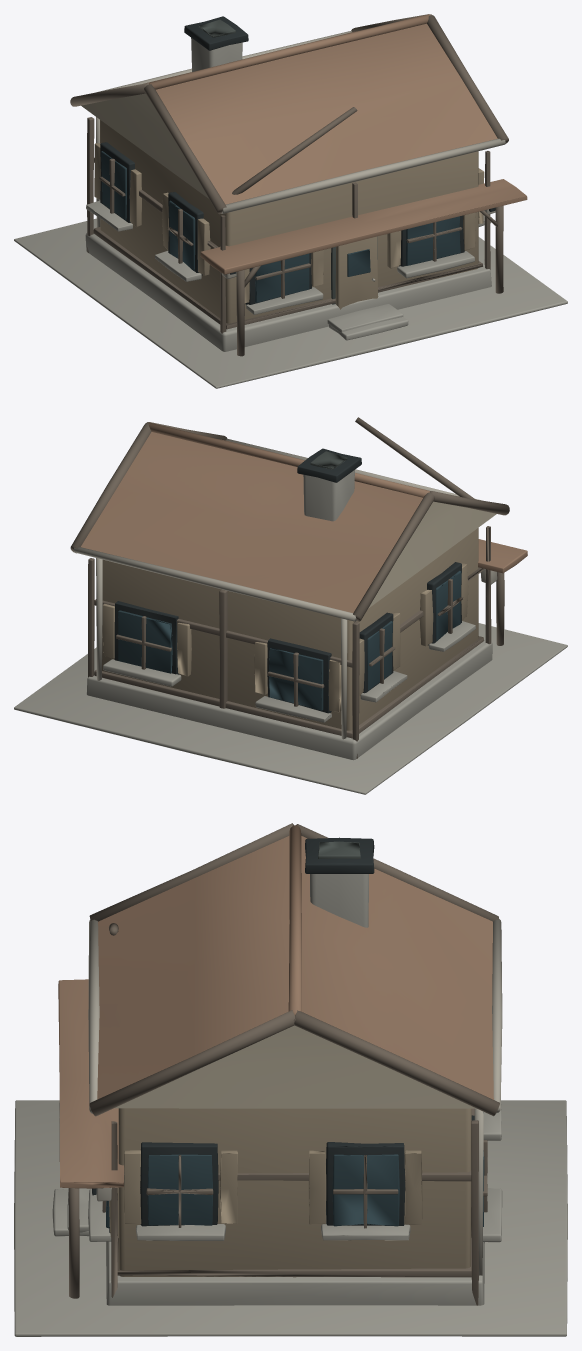
Rendered from district_art_3.glb.
The picture shows the model from 3 angles, top to bottom: view 1: azimuth 30°, elevation 25°; view 2: azimuth 150°, elevation 25°; view 3: azimuth 270°, elevation 25°; orthographic projection. The views are drawn at different scales.
Parts seen in each view (by area): view 1: roof, stone, wood, timber, glass, plaster, metal, trim, dark; view 2: roof, stone, wood, timber, glass, metal, trim, plaster; view 3: roof, stone, wood, timber, plaster, glass, trim, metal, dark.
Part boxes in pixels (left/top/right/bottom): roof: left=144, top=14, right=527, bottom=274; stone: left=14, top=38, right=567, bottom=388; wood: left=94, top=120, right=484, bottom=323; timber: left=70, top=14, right=508, bottom=356; glass: left=101, top=151, right=460, bottom=302; plaster: left=81, top=93, right=208, bottom=198; metal: left=96, top=30, right=505, bottom=281; trim: left=100, top=16, right=495, bottom=304; dark: left=198, top=19, right=377, bottom=304; roof: left=81, top=422, right=527, bottom=612; stone: left=14, top=470, right=567, bottom=794; wood: left=102, top=528, right=478, bottom=730; timber: left=70, top=417, right=509, bottom=758; glass: left=118, top=570, right=461, bottom=710; metal: left=73, top=438, right=497, bottom=739; trim: left=114, top=448, right=461, bottom=713; plaster: left=368, top=501, right=496, bottom=608; roof: left=58, top=825, right=493, bottom=1188; stone: left=14, top=874, right=567, bottom=1336; wood: left=109, top=1108, right=471, bottom=1277; timber: left=68, top=823, right=499, bottom=1305; plaster: left=114, top=1025, right=476, bottom=1108; glass: left=106, top=1112, right=484, bottom=1228; trim: left=92, top=837, right=474, bottom=1232; metal: left=88, top=919, right=502, bottom=1275; dark: left=318, top=841, right=360, bottom=858.
Size of the model in its own units: 12.5 by 8.43 by 12.5.
